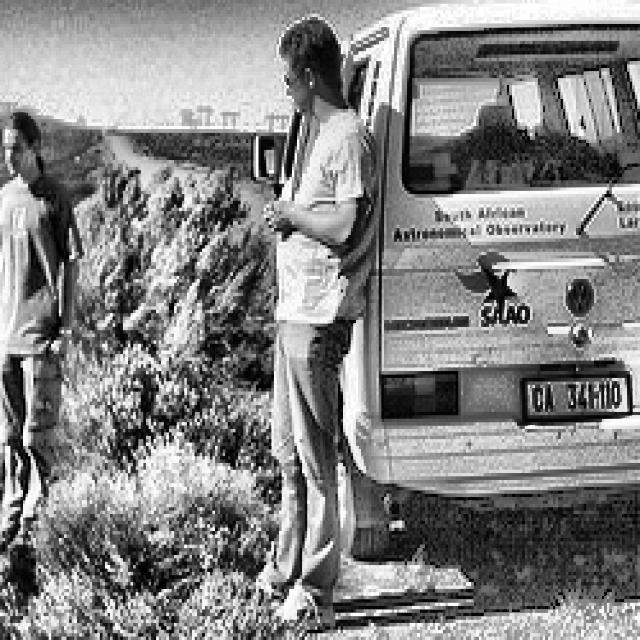light_vehicle: (253, 0, 640, 565)
